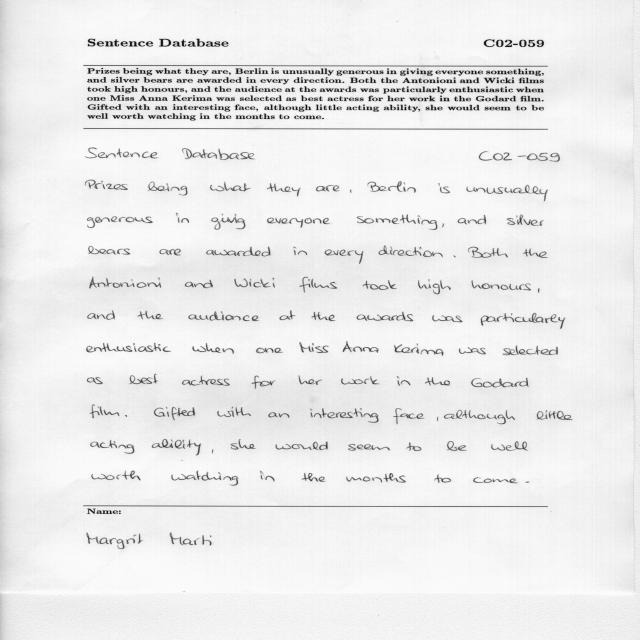word: (466, 185, 548, 202), (481, 313, 565, 329), (357, 214, 438, 230), (310, 408, 379, 423), (171, 471, 238, 486), (444, 410, 515, 424), (479, 151, 560, 162), (182, 148, 255, 160), (87, 216, 153, 228), (152, 440, 201, 456), (90, 277, 161, 288), (87, 343, 171, 352), (86, 148, 159, 158), (378, 246, 443, 257), (189, 311, 259, 321), (206, 247, 271, 257), (394, 343, 444, 356), (267, 218, 330, 228), (91, 440, 135, 454), (471, 281, 531, 291), (346, 473, 406, 483), (300, 277, 337, 293), (367, 181, 416, 193), (471, 378, 529, 388), (154, 407, 195, 421), (148, 182, 188, 196), (211, 214, 246, 230), (503, 346, 558, 356), (325, 250, 363, 264), (357, 312, 414, 321), (393, 408, 424, 424), (418, 280, 451, 295), (182, 376, 230, 386), (92, 471, 140, 481), (267, 183, 300, 197), (192, 343, 234, 354), (507, 214, 544, 226), (468, 247, 508, 258), (343, 341, 379, 353), (275, 442, 328, 450), (86, 180, 128, 190), (210, 182, 251, 192), (234, 278, 275, 288), (90, 405, 119, 418), (491, 441, 528, 451), (89, 246, 130, 255), (537, 410, 573, 420), (341, 376, 380, 385), (363, 280, 397, 290), (217, 407, 251, 417), (300, 342, 329, 353), (252, 376, 276, 389), (348, 444, 390, 451), (129, 374, 158, 384), (231, 439, 256, 450), (88, 310, 115, 320), (473, 478, 518, 484), (458, 215, 486, 224), (523, 248, 548, 258), (138, 311, 163, 320), (425, 377, 450, 386), (301, 473, 326, 482), (185, 280, 213, 288), (312, 312, 336, 321), (299, 376, 323, 385), (433, 315, 463, 322), (447, 441, 467, 451), (459, 347, 486, 354), (316, 185, 340, 192), (280, 311, 296, 321), (159, 249, 181, 256), (435, 474, 452, 483), (260, 471, 274, 481), (256, 348, 283, 353), (407, 442, 422, 451), (176, 213, 189, 223), (397, 376, 410, 386), (269, 412, 290, 418), (438, 183, 450, 193), (294, 247, 308, 255), (87, 377, 103, 384), (442, 223, 444, 228), (538, 288, 540, 293), (526, 481, 529, 483), (350, 189, 351, 193), (454, 256, 456, 258), (125, 415, 127, 417), (437, 417, 438, 421), (212, 450, 213, 454)
